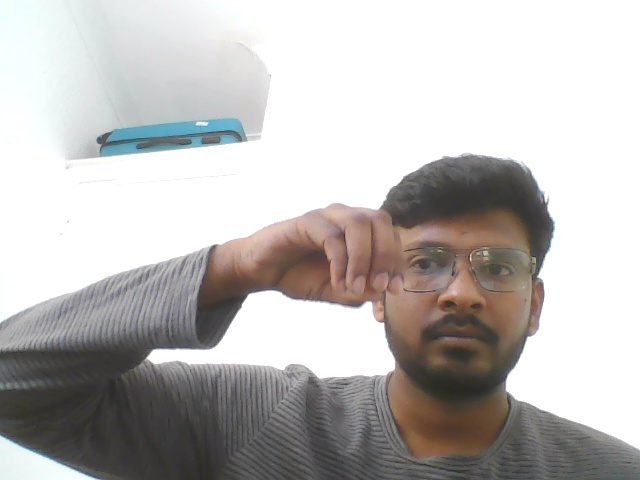Yes: (191, 172, 410, 372)
